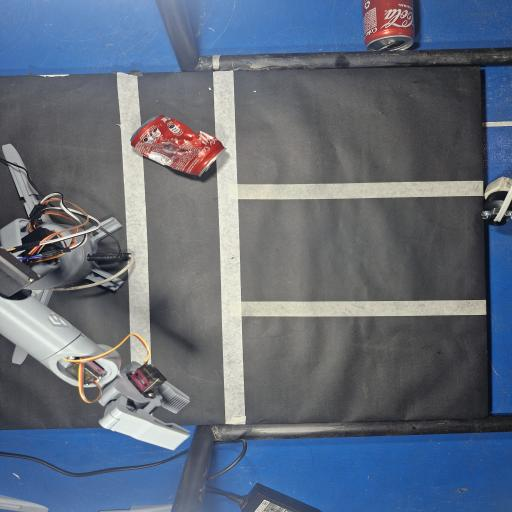lata_defectuoso: (131, 116, 224, 176)
